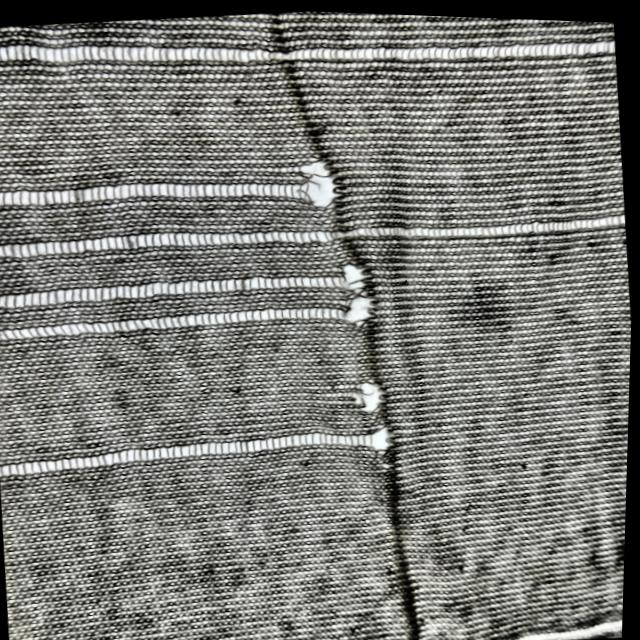Hole: (439, 267, 528, 333), (339, 368, 401, 413)
Stitch: (0, 176, 628, 288), (0, 0, 616, 104), (0, 133, 353, 239), (0, 407, 394, 495), (0, 244, 382, 332), (0, 289, 386, 367), (171, 587, 626, 640)
